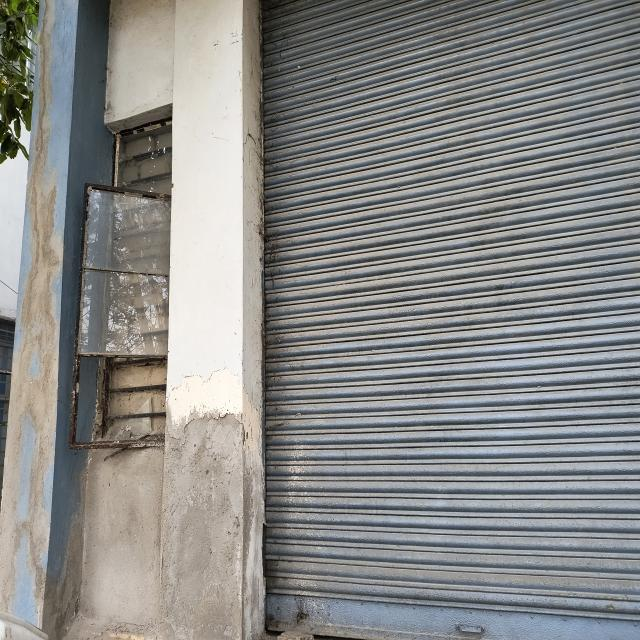Broken window pane: (72, 182, 171, 448)
Paint Peeling: (0, 0, 66, 627), (164, 366, 261, 454)
Scaling: (43, 415, 244, 640)
